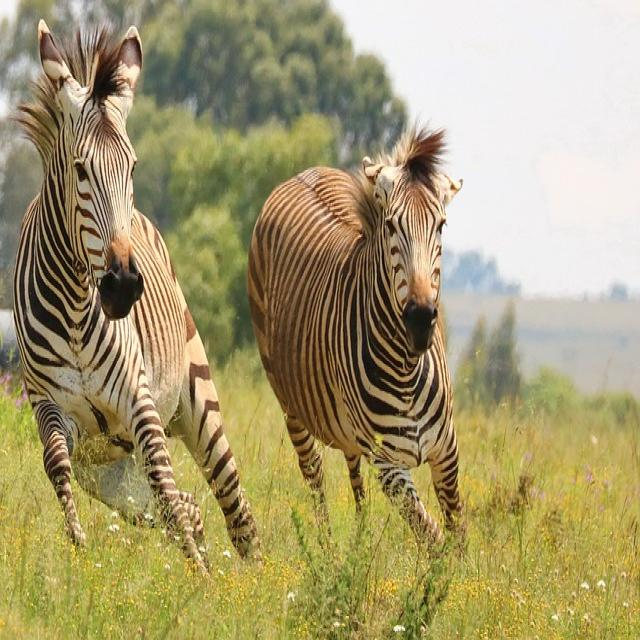Herbivorous: (6, 24, 257, 577), (246, 130, 463, 545)
